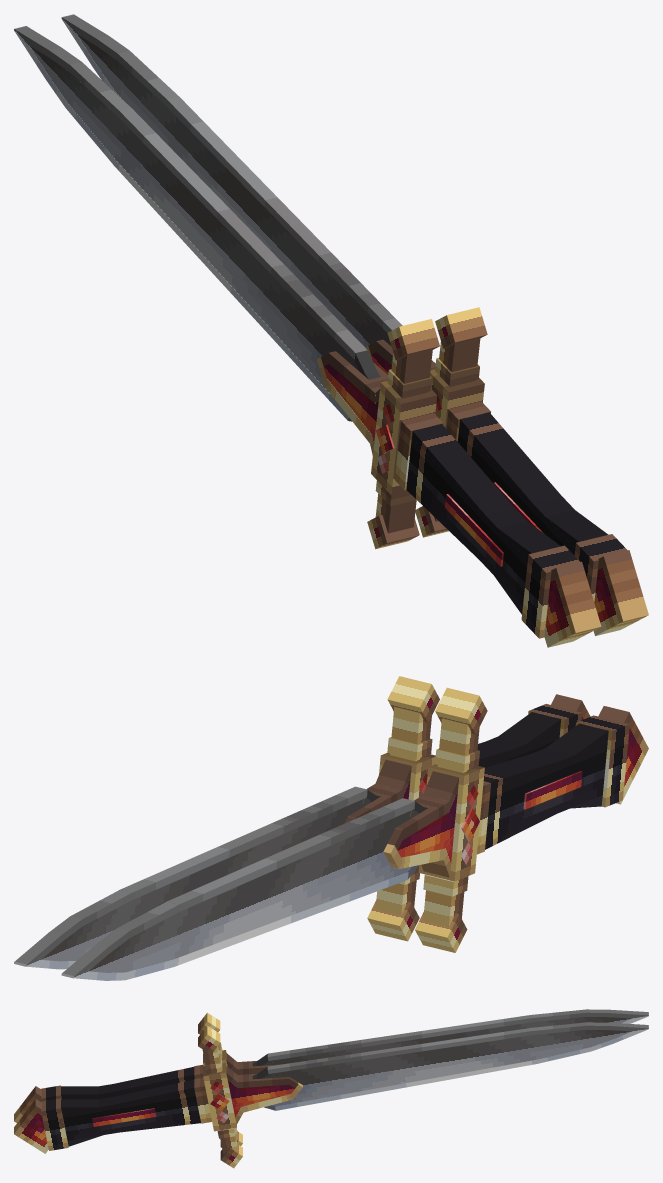
The model's file is nf_shortsword.glb.
3 views of the same model, one above another, from view 1: azimuth 30°, elevation 25°; view 2: azimuth 150°, elevation 25°; view 3: azimuth 270°, elevation 25° (orthographic). The views are drawn at different scales.
Visible parts, largest first — view 1: off__Tool_L, main__Tool_R; view 2: off__Tool_L, main__Tool_R; view 3: main__Tool_R, off__Tool_L.
Boxes of the visible parts, x1,y1,x2,y2 form: off__Tool_L: [14, 26, 601, 647]; main__Tool_R: [61, 14, 648, 635]; off__Tool_L: [61, 687, 648, 980]; main__Tool_R: [14, 676, 590, 969]; main__Tool_R: [14, 1022, 648, 1168]; off__Tool_L: [14, 1009, 648, 1147].
Size of the model in its own units: 0.136 by 0.3747 by 1.54.
1 material, 1 textured.
